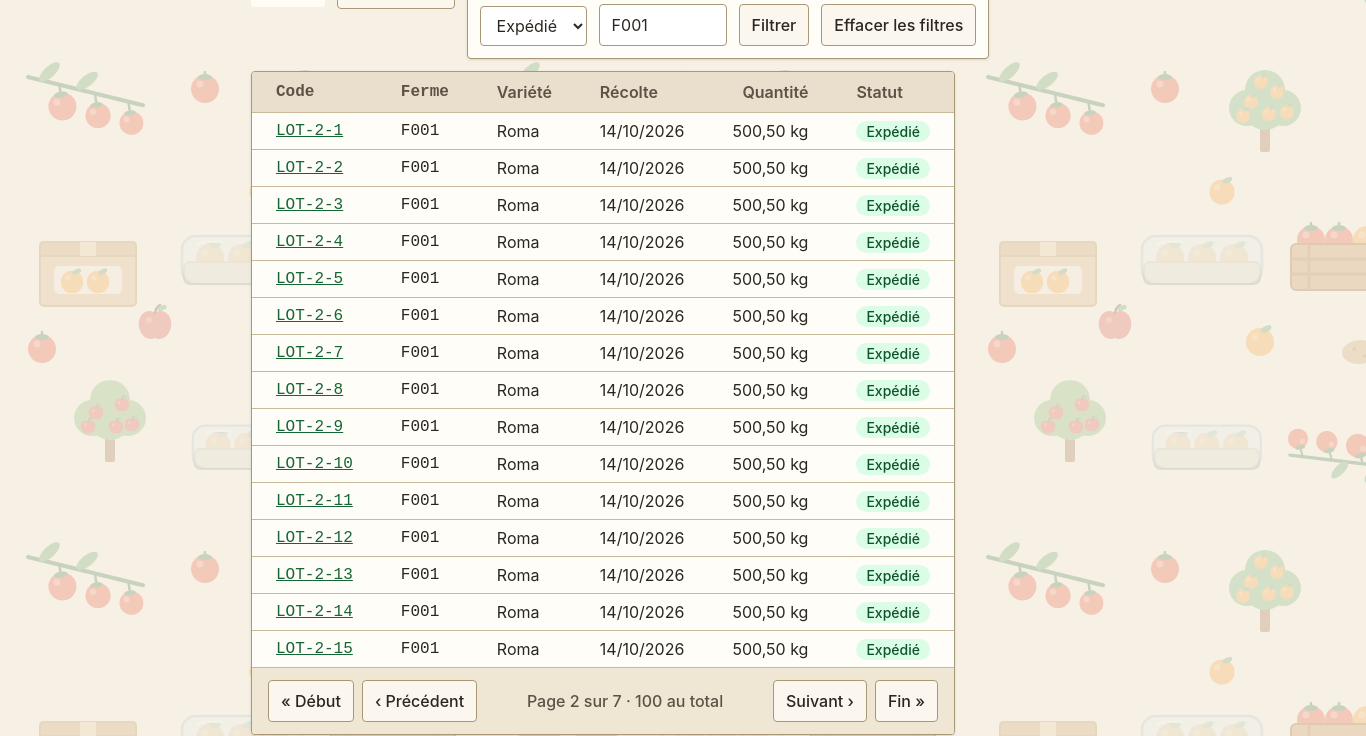
BatchesPage › keeps the filters when the page changes, and goes back to page 1 when they are applied
(page scrolled)
Check: the link "LOT-2-1" is shown, box x1=276 y1=122 x2=343 y2=140
Click the button "Suivant ›": [820, 701] box x1=773 y1=680 x2=867 y2=722
(page scrolled)
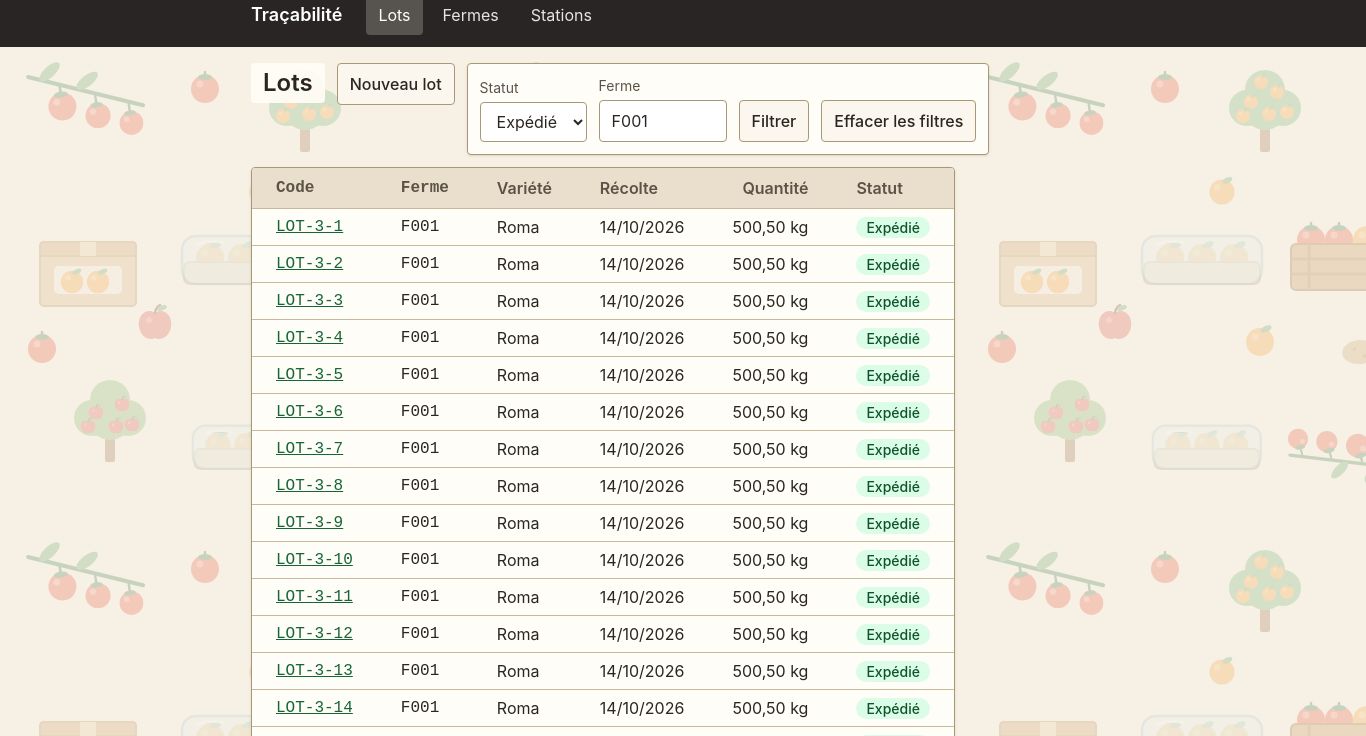
Check: the link "LOT-3-1" is shown, box x1=276 y1=218 x2=343 y2=236
Click the button "Filtrer": [774, 121] box x1=739 y1=100 x2=809 y2=142
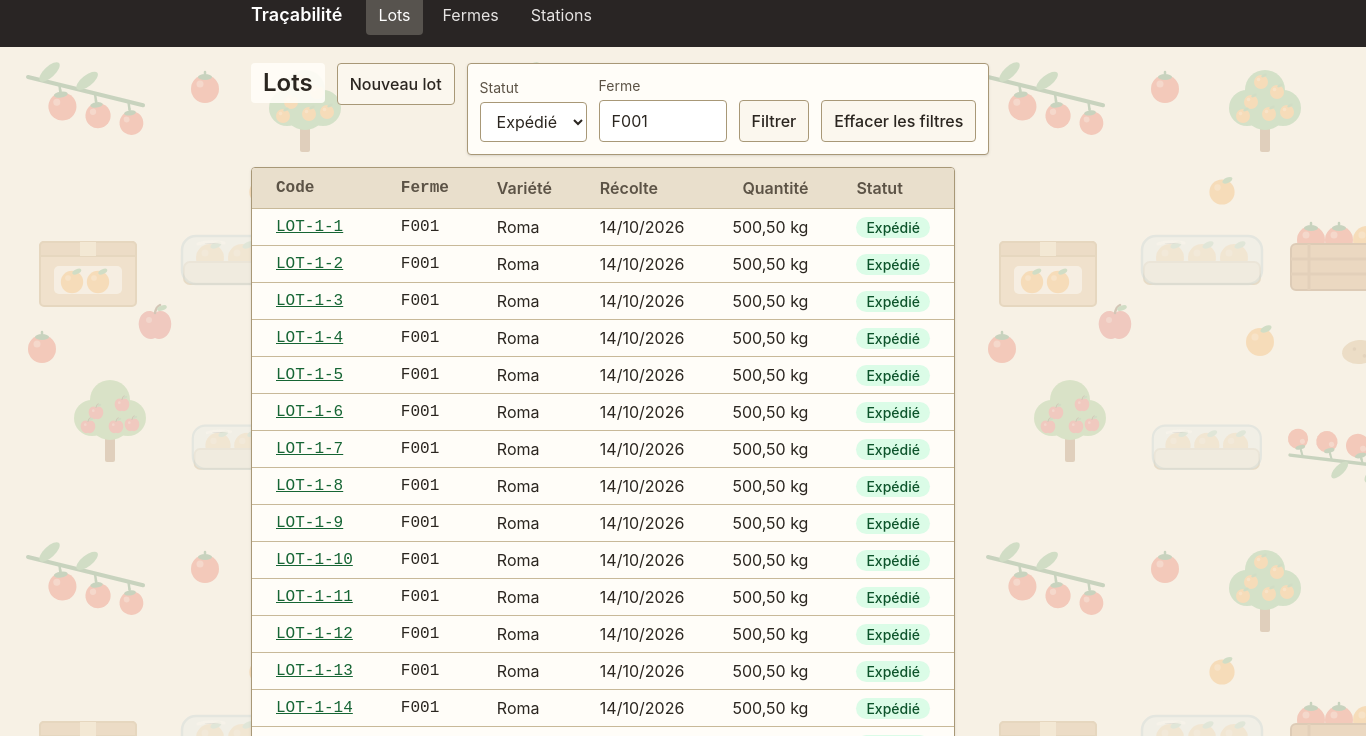
Check: the link "LOT-1-1" is shown, box x1=276 y1=218 x2=343 y2=236
